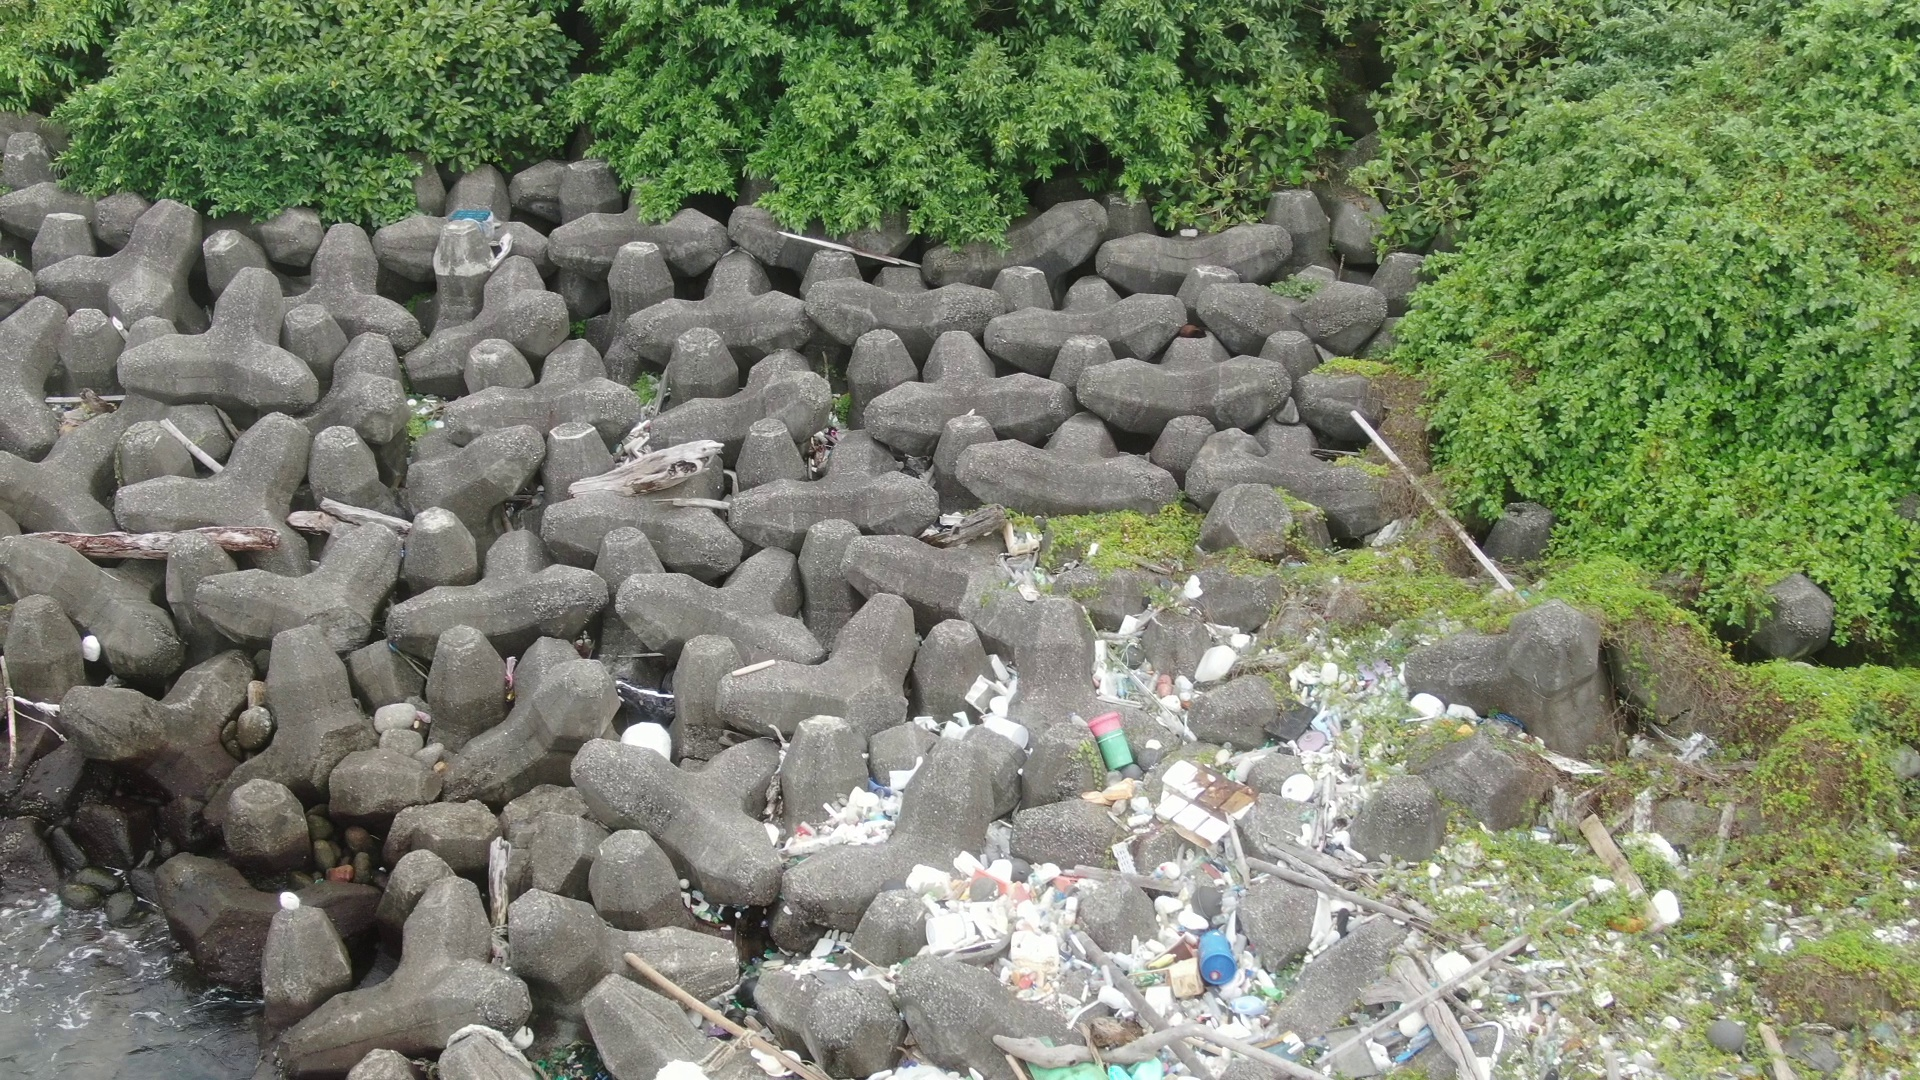garbage: (775, 570, 1675, 1080), (646, 982, 775, 1080), (673, 876, 757, 940), (620, 711, 687, 767), (530, 1031, 604, 1080), (443, 204, 505, 236)
